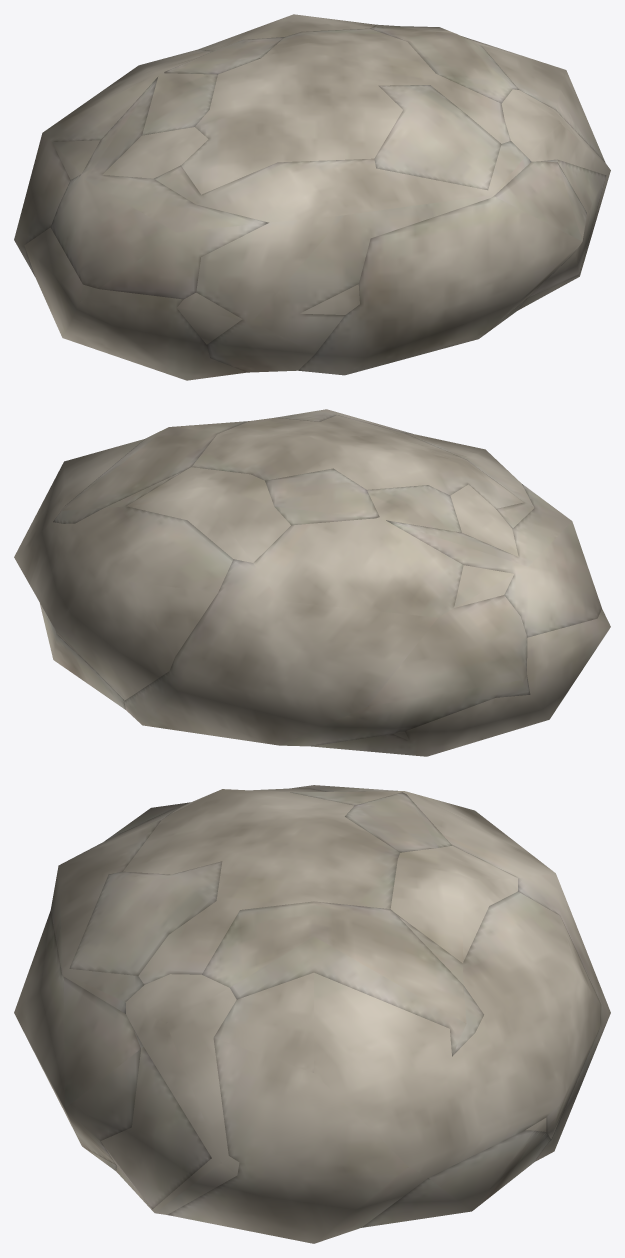
File: pebbles.glb
3 views of the same model, one above another, from view 1: azimuth 30°, elevation 25°; view 2: azimuth 150°, elevation 25°; view 3: azimuth 270°, elevation 25° (orthographic). The views are drawn at different scales.
Visible parts, largest first — view 1: Pebble3, Pebble2, Pebble1, Pebble0; view 2: Pebble2, Pebble1, Pebble3, Pebble0; view 3: Pebble1, Pebble2, Pebble3, Pebble0.
Boxes of the visible parts, bbox=[...] form: Pebble3: bbox=[50, 37, 586, 375]; Pebble2: bbox=[14, 26, 531, 372]; Pebble1: bbox=[24, 24, 606, 380]; Pebble0: bbox=[52, 14, 610, 344]; Pebble2: bbox=[53, 421, 534, 746]; Pebble1: bbox=[14, 415, 610, 756]; Pebble3: bbox=[40, 409, 601, 709]; Pebble0: bbox=[55, 425, 518, 740]; Pebble1: bbox=[101, 789, 600, 1243]; Pebble2: bbox=[50, 791, 610, 1170]; Pebble3: bbox=[14, 785, 550, 1227]; Pebble0: bbox=[116, 788, 546, 1214].
Bounding box in the file's own units: 2 × 0.8958 × 1.62.
4 materials, 4 textured.
